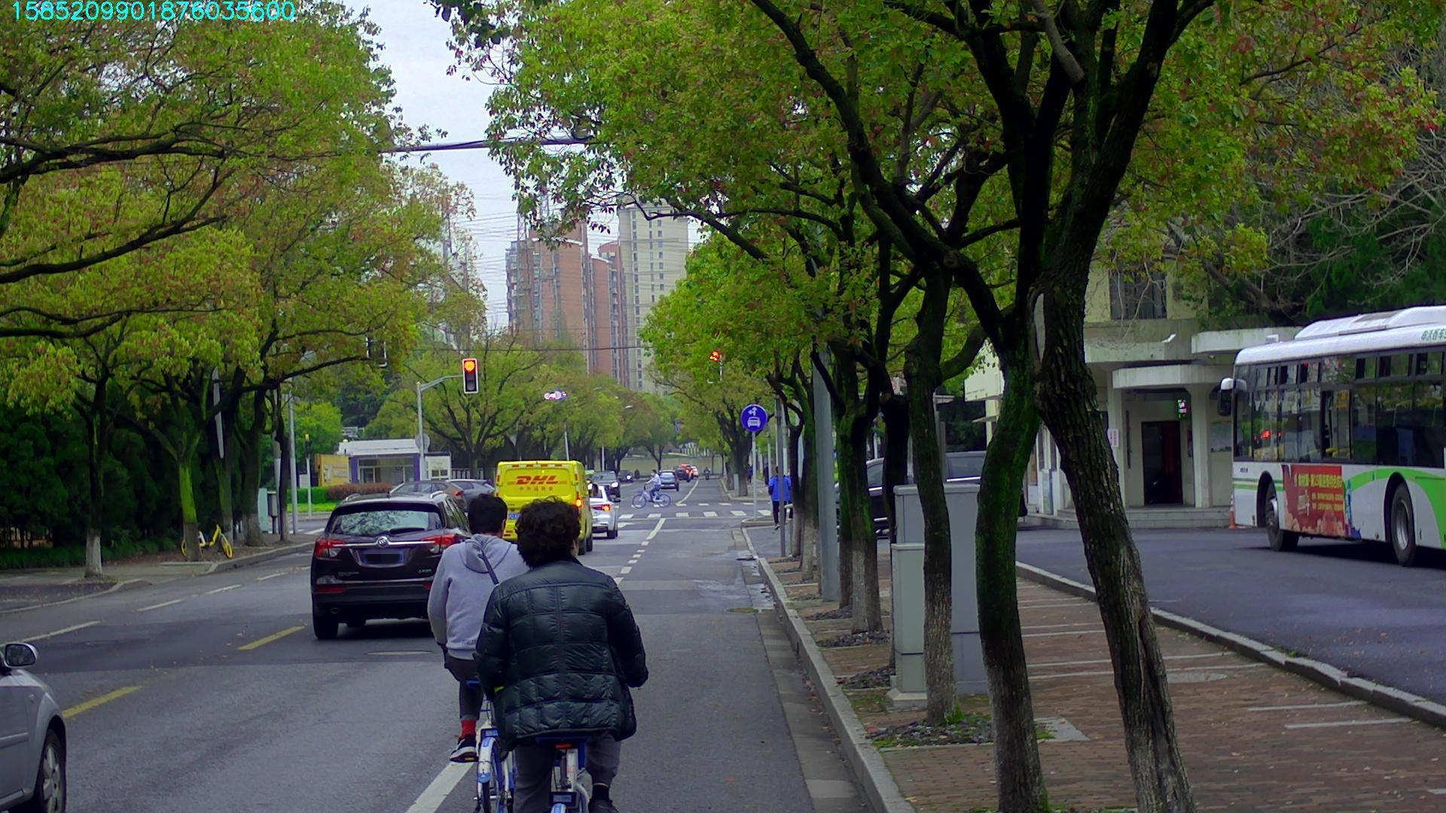red: (706, 344, 720, 382), (463, 359, 477, 391)
